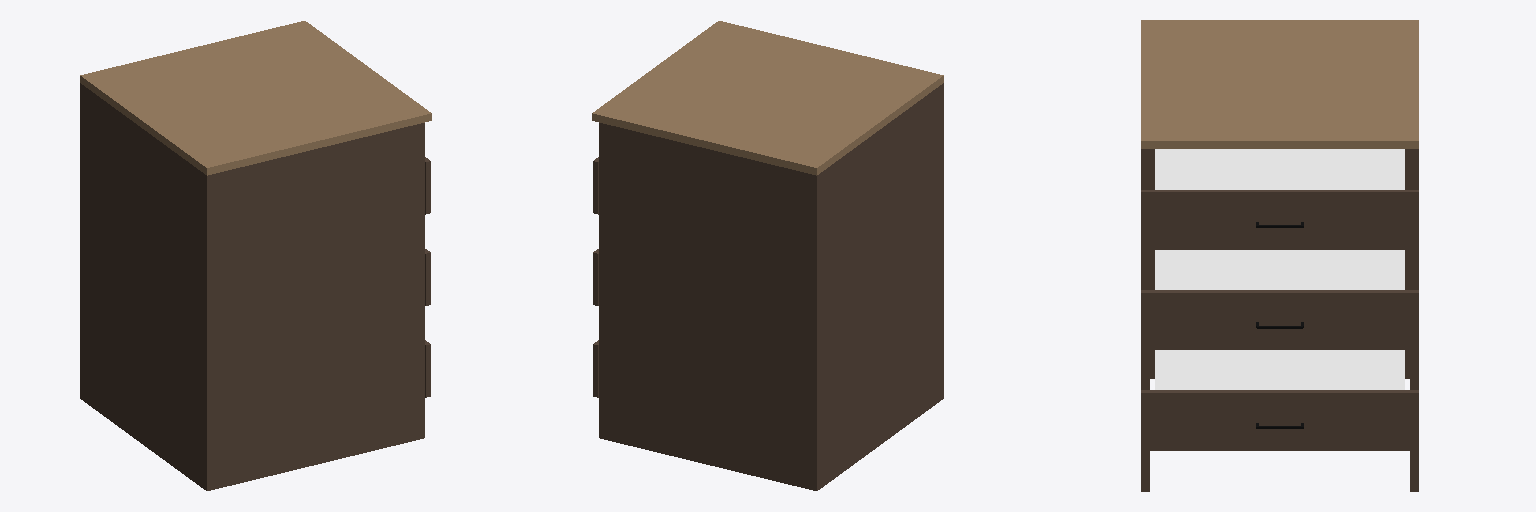
robot.urdf — mk_station:
<robot name="mk_station" version="1.0">
  <joint name="top_drawer_joint" type="prismatic">
    <limit lower="0" upper="0.5" effort="0.00000" velocity="0.00000"/>
    <origin rpy="0.00000 0.00000 0.00000" xyz="0.00000 0.00000 0.66800"/>
    <parent link="body"/>
    <child link="top_drawer"/>
    <axis xyz="1.00000 0.00000 0.00000"/>
  </joint>
  <joint name="middle_drawer_joint" type="prismatic">
    <limit lower="0" upper="0.5" effort="0.00000" velocity="0.00000"/>
    <origin rpy="0.00000 0.00000 0.00000" xyz="0.00000 0.00000 0.42300"/>
    <parent link="body"/>
    <child link="middle_drawer"/>
    <axis xyz="1.00000 0.00000 0.00000"/>
  </joint>
  <joint name="bottom_drawer_joint" type="prismatic">
    <limit lower="0" upper="0.5" effort="0.00000" velocity="0.00000"/>
    <origin rpy="0.00000 0.00000 0.00000" xyz="0.00000 0.00000 0.17800"/>
    <parent link="body"/>
    <child link="bottom_drawer"/>
    <axis xyz="1.00000 0.00000 0.00000"/>
  </joint>
  <link name="body">
    <collision name="body_back_collision">
      <origin rpy="0.00000 0.00000 0.00000" xyz="-0.30500 0.00000 0.42250"/>
      <geometry>
        <box size="0.02000 0.61500 0.84500"/>
      </geometry>
    </collision>
    <visual name="body_back">
      <origin rpy="0.00000 0.00000 0.00000" xyz="-0.30500 0.00000 0.42250"/>
      <material name="gray_wooden"/>
      <geometry>
        <box size="0.02000 0.61500 0.84500"/>
      </geometry>
    </visual>
    <collision name="body_left_collision">
      <origin rpy="0.00000 0.00000 0.00000" xyz="0.00000 -0.29750 0.42250"/>
      <geometry>
        <box size="0.59000 0.02000 0.84500"/>
      </geometry>
    </collision>
    <visual name="body_left">
      <origin rpy="0.00000 0.00000 0.00000" xyz="0.00000 -0.29750 0.42250"/>
      <material name="gray_wooden"/>
      <geometry>
        <box size="0.59000 0.02000 0.84500"/>
      </geometry>
    </visual>
    <collision name="body_right_collision">
      <origin rpy="0.00000 0.00000 0.00000" xyz="0.00000 0.29750 0.42250"/>
      <geometry>
        <box size="0.59000 0.02000 0.84500"/>
      </geometry>
    </collision>
    <visual name="body_right">
      <origin rpy="0.00000 0.00000 0.00000" xyz="0.00000 0.29750 0.42250"/>
      <material name="gray_wooden"/>
      <geometry>
        <box size="0.59000 0.02000 0.84500"/>
      </geometry>
    </visual>
    <collision name="tabletop_collision">
      <origin rpy="0.00000 0.00000 0.00000" xyz="0.00000 0.00000 0.85500"/>
      <geometry>
        <box size="0.63000 0.61500 0.02000"/>
      </geometry>
    </collision>
    <visual name="tabletop">
      <origin rpy="0.00000 0.00000 0.00000" xyz="0.00000 0.00000 0.85500"/>
      <material name="stone"/>
      <geometry>
        <box size="0.63000 0.61500 0.02000"/>
      </geometry>
    </visual>
  </link>
  <link name="top_drawer">
    <visual name="handle0">
      <origin rpy="0.00000 0.00000 0.00000" xyz="0.34250 0.00000 0.0"/>
      <material name="black"/>
      <geometry>
        <box size="0.005000 0.10000 0.00500"/>
      </geometry>
    </visual>
    <visual name="handle1">
      <origin rpy="0.00000 0.00000 0.00000" xyz="0.33250 -0.05000 0.0"/>
      <material name="black"/>
      <geometry>
        <box size="0.020000 0.00500 0.00500"/>
      </geometry>
    </visual>
    <visual name="handle2">
      <origin rpy="0.00000 0.00000 0.00000" xyz="0.33250 0.05000 0.0"/>
      <material name="black"/>
      <geometry>
        <box size="0.020000 0.00500 0.00500"/>
      </geometry>
    </visual>
    <collision name="drawer_front_collision">
      <origin rpy="0.00000 0.00000 0.00000" xyz="0.30500 0.00000 0.0"/>
      <geometry>
        <box size="0.015000 0.61500 0.14000"/>
      </geometry>
    </collision>
    <visual name="drawer_front">
      <origin rpy="0.00000 0.00000 0.00000" xyz="0.30500 0.00000 0.0"/>
      <material name="gray_wooden"/>
      <geometry>
        <box size="0.015000 0.61500 0.14000"/>
      </geometry>
    </visual>
    <collision name="drawer_back_collision">
      <origin rpy="0.00000 0.00000 0.00000" xyz="-0.28500 0.00000 -0.02"/>
      <geometry>
        <box size="0.02000 0.51500 0.10000"/>
      </geometry>
    </collision>
    <visual name="drawer_back">
      <origin rpy="0.00000 0.00000 0.00000" xyz="-0.28500 0.00000 -0.02"/>
      <material name="white_wooden"/>
      <geometry>
        <box size="0.02000 0.51500 0.10000"/>
      </geometry>
    </visual>
    <collision name="drawer_interior_bottom_collision">
      <origin rpy="0.00000 0.00000 0.00000" xyz="0.00000 0.00000 -0.06"/>
      <geometry>
        <box size="0.55000 0.51500 0.02000"/>
      </geometry>
    </collision>
    <visual name="drawer_interior_bottom">
      <origin rpy="0.00000 0.00000 0.00000" xyz="0.00000 0.00000 -0.06"/>
      <material name="white_wooden"/>
      <geometry>
        <box size="0.55000 0.51500 0.02000"/>
      </geometry>
    </visual>
    <collision name="drawer_interior_front_collision">
      <origin rpy="0.00000 0.00000 0.00000" xyz="0.28500 0.00000 -0.02"/>
      <geometry>
        <box size="0.02000 0.51500 0.10000"/>
      </geometry>
    </collision>
    <visual name="drawer_interior_front">
      <origin rpy="0.00000 0.00000 0.00000" xyz="0.28500 0.00000 -0.02"/>
      <material name="white_wooden"/>
      <geometry>
        <box size="0.02000 0.51500 0.10000"/>
      </geometry>
    </visual>
    <collision name="drawer_left_collision">
      <origin rpy="0.00000 0.00000 0.00000" xyz="0.00000 -0.26750 -0.02"/>
      <geometry>
        <box size="0.59000 0.02000 0.10000"/>
      </geometry>
    </collision>
    <visual name="drawer_left">
      <origin rpy="0.00000 0.00000 0.00000" xyz="0.00000 -0.26750 -0.02"/>
      <material name="white_wooden"/>
      <geometry>
        <box size="0.59000 0.02000 0.10000"/>
      </geometry>
    </visual>
    <collision name="drawer_right_collision">
      <origin rpy="0.00000 0.00000 0.00000" xyz="0.00000 0.26750 -0.02"/>
      <geometry>
        <box size="0.59000 0.02000 0.10000"/>
      </geometry>
    </collision>
    <visual name="drawer_right">
      <origin rpy="0.00000 0.00000 0.00000" xyz="0.00000 0.26750 -0.02"/>
      <material name="white_wooden"/>
      <geometry>
        <box size="0.59000 0.02000 0.10000"/>
      </geometry>
    </visual>
  </link>
  <link name="middle_drawer">
    <visual name="handle0">
      <origin rpy="0.00000 0.00000 0.00000" xyz="0.34250 0.00000 0.0"/>
      <material name="black"/>
      <geometry>
        <box size="0.005000 0.10000 0.00500"/>
      </geometry>
    </visual>
    <visual name="handle1">
      <origin rpy="0.00000 0.00000 0.00000" xyz="0.33250 -0.05000 0.0"/>
      <material name="black"/>
      <geometry>
        <box size="0.020000 0.00500 0.00500"/>
      </geometry>
    </visual>
    <visual name="handle2">
      <origin rpy="0.00000 0.00000 0.00000" xyz="0.33250 0.05000 0.0"/>
      <material name="black"/>
      <geometry>
        <box size="0.020000 0.00500 0.00500"/>
      </geometry>
    </visual>
    <collision name="drawer_front_collision">
      <origin rpy="0.00000 0.00000 0.00000" xyz="0.30500 0.00000 0.0"/>
      <geometry>
        <box size="0.015000 0.61500 0.14000"/>
      </geometry>
    </collision>
    <visual name="drawer_front">
      <origin rpy="0.00000 0.00000 0.00000" xyz="0.30500 0.00000 0.0"/>
      <material name="gray_wooden"/>
      <geometry>
        <box size="0.015000 0.61500 0.14000"/>
      </geometry>
    </visual>
    <collision name="drawer_back_collision">
      <origin rpy="0.00000 0.00000 0.00000" xyz="-0.28500 0.00000 -0.02"/>
      <geometry>
        <box size="0.02000 0.51500 0.10000"/>
      </geometry>
    </collision>
    <visual name="drawer_back">
      <origin rpy="0.00000 0.00000 0.00000" xyz="-0.28500 0.00000 -0.02"/>
      <material name="white_wooden"/>
      <geometry>
        <box size="0.02000 0.51500 0.10000"/>
      </geometry>
    </visual>
    <collision name="drawer_interior_bottom_collision">
      <origin rpy="0.00000 0.00000 0.00000" xyz="0.00000 0.00000 -0.06"/>
      <geometry>
        <box size="0.55000 0.51500 0.02000"/>
      </geometry>
    </collision>
    <visual name="drawer_interior_bottom">
      <origin rpy="0.00000 0.00000 0.00000" xyz="0.00000 0.00000 -0.06"/>
      <material name="white_wooden"/>
      <geometry>
        <box size="0.55000 0.51500 0.02000"/>
      </geometry>
    </visual>
    <collision name="drawer_interior_front_collision">
      <origin rpy="0.00000 0.00000 0.00000" xyz="0.28500 0.00000 -0.02"/>
      <geometry>
        <box size="0.02000 0.51500 0.10000"/>
      </geometry>
    </collision>
    <visual name="drawer_interior_front">
      <origin rpy="0.00000 0.00000 0.00000" xyz="0.28500 0.00000 -0.02"/>
      <material name="white_wooden"/>
      <geometry>
        <box size="0.02000 0.51500 0.10000"/>
      </geometry>
    </visual>
    <collision name="drawer_left_collision">
      <origin rpy="0.00000 0.00000 0.00000" xyz="0.00000 -0.26750 -0.02"/>
      <geometry>
        <box size="0.59000 0.02000 0.10000"/>
      </geometry>
    </collision>
    <visual name="drawer_left">
      <origin rpy="0.00000 0.00000 0.00000" xyz="0.00000 -0.26750 -0.02"/>
      <material name="white_wooden"/>
      <geometry>
        <box size="0.59000 0.02000 0.10000"/>
      </geometry>
    </visual>
    <collision name="drawer_right_collision">
      <origin rpy="0.00000 0.00000 0.00000" xyz="0.00000 0.26750 -0.02"/>
      <geometry>
        <box size="0.59000 0.02000 0.10000"/>
      </geometry>
    </collision>
    <visual name="drawer_right">
      <origin rpy="0.00000 0.00000 0.00000" xyz="0.00000 0.26750 -0.02"/>
      <material name="white_wooden"/>
      <geometry>
        <box size="0.59000 0.02000 0.10000"/>
      </geometry>
    </visual>
  </link>
  <link name="bottom_drawer">
    <visual name="handle0">
      <origin rpy="0.00000 0.00000 0.00000" xyz="0.34250 0.00000 0.0"/>
      <material name="black"/>
      <geometry>
        <box size="0.005000 0.10000 0.00500"/>
      </geometry>
    </visual>
    <visual name="handle1">
      <origin rpy="0.00000 0.00000 0.00000" xyz="0.33250 -0.05000 0.0"/>
      <material name="black"/>
      <geometry>
        <box size="0.020000 0.00500 0.00500"/>
      </geometry>
    </visual>
    <visual name="handle2">
      <origin rpy="0.00000 0.00000 0.00000" xyz="0.33250 0.05000 0.0"/>
      <material name="black"/>
      <geometry>
        <box size="0.020000 0.00500 0.00500"/>
      </geometry>
    </visual>
    <collision name="drawer_front_collision">
      <origin rpy="0.00000 0.00000 0.00000" xyz="0.30500 0.00000 0.0"/>
      <geometry>
        <box size="0.015000 0.61500 0.14000"/>
      </geometry>
    </collision>
    <visual name="drawer_front">
      <origin rpy="0.00000 0.00000 0.00000" xyz="0.30500 0.00000 0.0"/>
      <material name="gray_wooden"/>
      <geometry>
        <box size="0.015000 0.61500 0.14000"/>
      </geometry>
    </visual>
    <collision name="drawer_back_collision">
      <origin rpy="0.00000 0.00000 0.00000" xyz="-0.28500 0.00000 -0.02"/>
      <geometry>
        <box size="0.02000 0.51500 0.10000"/>
      </geometry>
    </collision>
    <visual name="drawer_back">
      <origin rpy="0.00000 0.00000 0.00000" xyz="-0.28500 0.00000 -0.02"/>
      <material name="white_wooden"/>
      <geometry>
        <box size="0.02000 0.51500 0.10000"/>
      </geometry>
    </visual>
    <collision name="drawer_interior_bottom_collision">
      <origin rpy="0.00000 0.00000 0.00000" xyz="0.00000 0.00000 -0.06"/>
      <geometry>
        <box size="0.55000 0.51500 0.02000"/>
      </geometry>
    </collision>
    <visual name="drawer_interior_bottom">
      <origin rpy="0.00000 0.00000 0.00000" xyz="0.00000 0.00000 -0.06"/>
      <material name="white_wooden"/>
      <geometry>
        <box size="0.55000 0.51500 0.02000"/>
      </geometry>
    </visual>
    <collision name="drawer_interior_front_collision">
      <origin rpy="0.00000 0.00000 0.00000" xyz="0.28500 0.00000 -0.02"/>
      <geometry>
        <box size="0.02000 0.51500 0.10000"/>
      </geometry>
    </collision>
    <visual name="drawer_interior_front">
      <origin rpy="0.00000 0.00000 0.00000" xyz="0.28500 0.00000 -0.02"/>
      <material name="white_wooden"/>
      <geometry>
        <box size="0.02000 0.51500 0.10000"/>
      </geometry>
    </visual>
    <collision name="drawer_left_collision">
      <origin rpy="0.00000 0.00000 0.00000" xyz="0.00000 -0.26750 -0.02"/>
      <geometry>
        <box size="0.59000 0.02000 0.10000"/>
      </geometry>
    </collision>
    <visual name="drawer_left">
      <origin rpy="0.00000 0.00000 0.00000" xyz="0.00000 -0.26750 -0.02"/>
      <material name="white_wooden"/>
      <geometry>
        <box size="0.59000 0.02000 0.10000"/>
      </geometry>
    </visual>
    <collision name="drawer_right_collision">
      <origin rpy="0.00000 0.00000 0.00000" xyz="0.00000 0.26750 -0.02"/>
      <geometry>
        <box size="0.59000 0.02000 0.10000"/>
      </geometry>
    </collision>
    <visual name="drawer_right">
      <origin rpy="0.00000 0.00000 0.00000" xyz="0.00000 0.26750 -0.02"/>
      <material name="white_wooden"/>
      <geometry>
        <box size="0.59000 0.02000 0.10000"/>
      </geometry>
    </visual>
  </link>
  <material name="gray_wooden">
    <color rgba="0.38824 0.32157 0.27451 1.00000"/>
  </material>
  <material name="stone">
    <color rgba="0.63529 0.52941 0.41176 1.00000"/>
  </material>
  <material name="white_wooden">
    <color rgba="1.00000 1.00000 1.00000 1.00000"/>
  </material>
  <material name="black">
    <color rgba="0.10000 0.10000 0.10000 1.00000"/>
  </material>
</robot>

--- Render facts (derived) ---
3 views of the same robot in one strip: view 1: azimuth 30°, elevation 25°; view 2: azimuth 150°, elevation 25°; view 3: azimuth 270°, elevation 25° (orthographic).
Robot: mk_station — 4 links, 3 joints (3 prismatic); root link body; default pose: every joint at zero.
Visible links, largest first — view 1: body; view 2: body; view 3: body, bottom_drawer, top_drawer, middle_drawer.
Link boxes in pixels (x1,y1,x2,y2): body: (80, 21, 431, 490); body: (592, 21, 943, 490); body: (1141, 20, 1418, 491); bottom_drawer: (1141, 350, 1418, 450); top_drawer: (1141, 149, 1418, 249); middle_drawer: (1141, 250, 1418, 349).
Bounding box of the posed robot: 0.66 × 0.615 × 0.865 m (x, y, z).
Geometry: primitives only (box / cylinder / sphere), no mesh files.